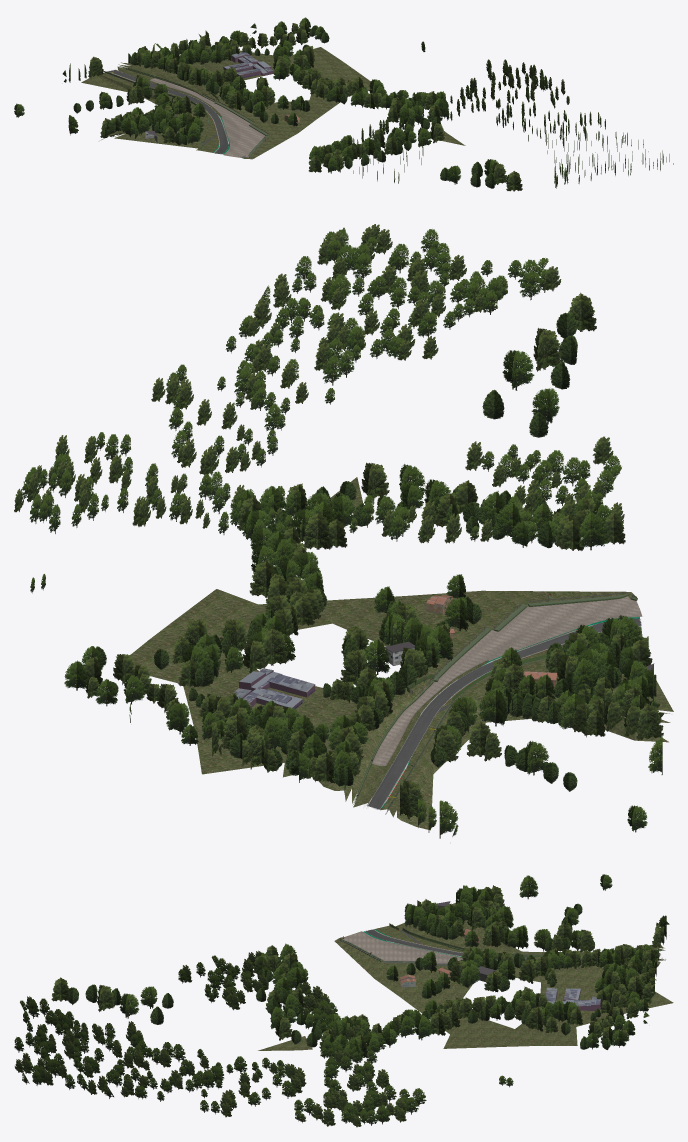
3 renders of one model, top to bottom at view 1: azimuth 30°, elevation 25°; view 2: azimuth 150°, elevation 25°; view 3: azimuth 270°, elevation 25°, orthographic. The views are drawn at different scales.
Visible parts, largest first — view 1: tile_t07; view 2: tile_t07; view 3: tile_t07.
Part boxes in pixels (x1,y1,x2,y2): tile_t07: (14,17,673,191); tile_t07: (14,224,673,838); tile_t07: (14,874,673,1127).
Size of the model in its own units: 655 by 83.28 by 744.
26 materials, 26 textured.
